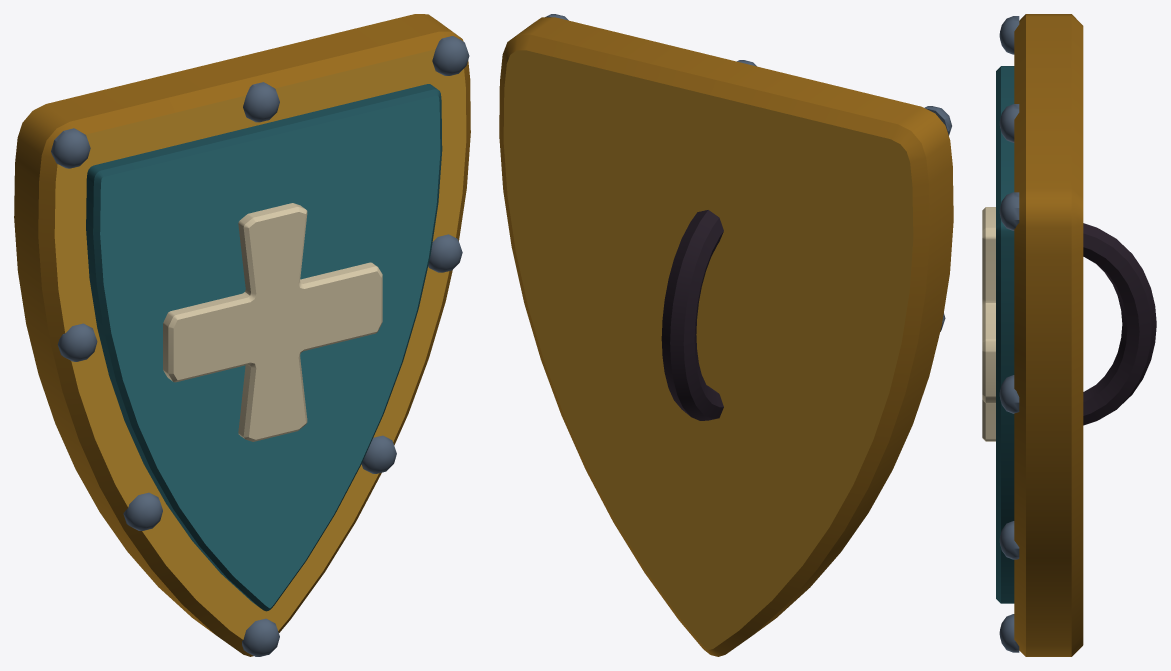
The model's file is HeaterShield_19.glb.
3 renders of one model, left to right at view 1: azimuth 30°, elevation 25°; view 2: azimuth 150°, elevation 25°; view 3: azimuth 270°, elevation 25°, orthographic. The views are drawn at different scales.
Visible parts, largest first — view 1: HeaterShield_19; view 2: HeaterShield_19; view 3: HeaterShield_19.
Part boxes in pixels (x1,y1,x2,y2): HeaterShield_19: (14,14,470,656); HeaterShield_19: (499,14,953,656); HeaterShield_19: (982,14,1156,656).
Bounding box in the file's own units: 2.07 × 2.65 × 0.76.
